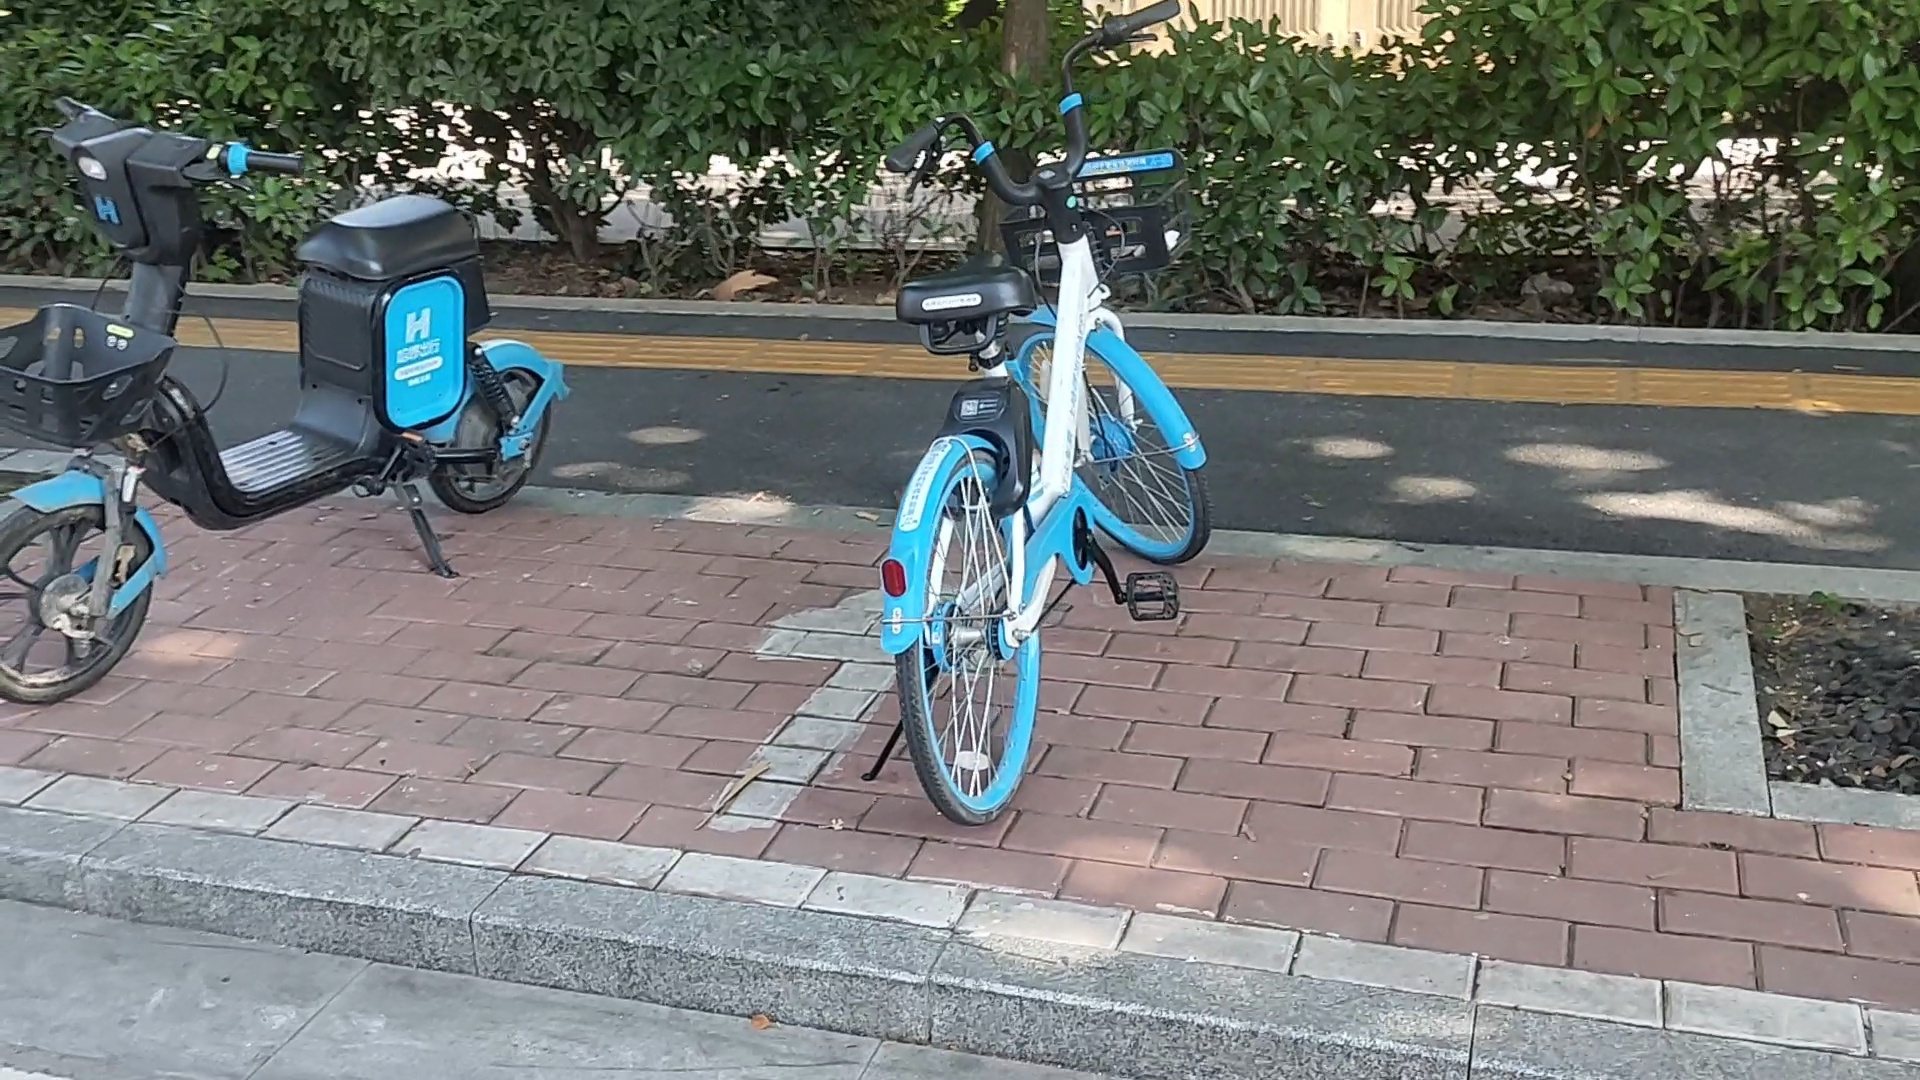non-vehicle: (0, 113, 571, 712), (870, 57, 1207, 825)
